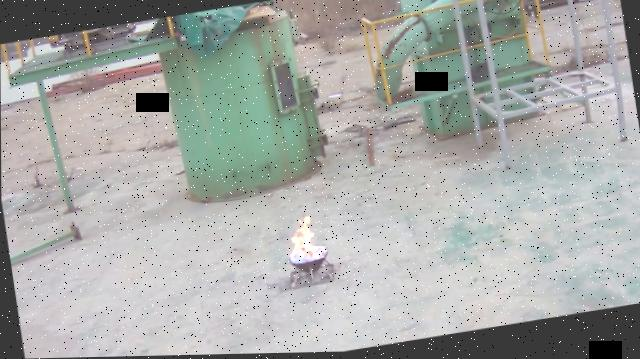fire: (288, 216, 316, 257)
